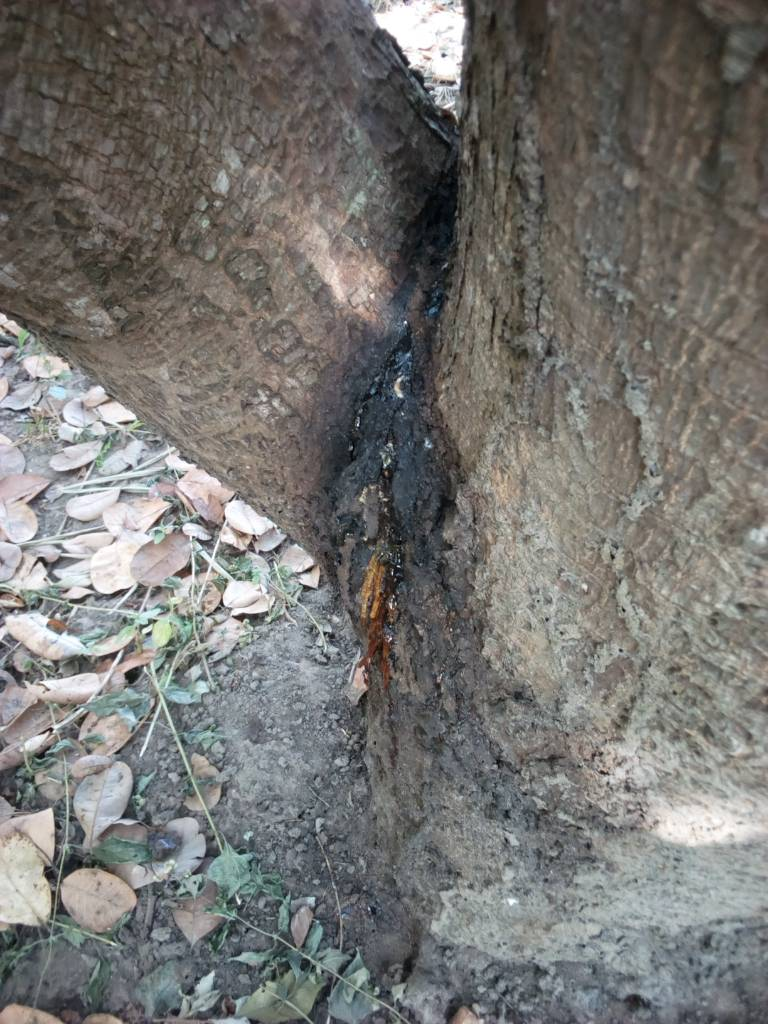Gommose: (315, 338, 477, 688)
